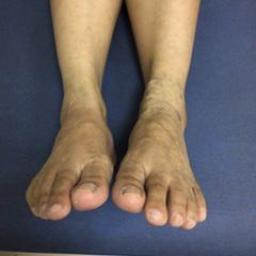Front View -Both Feet-: (19, 61, 226, 240)
